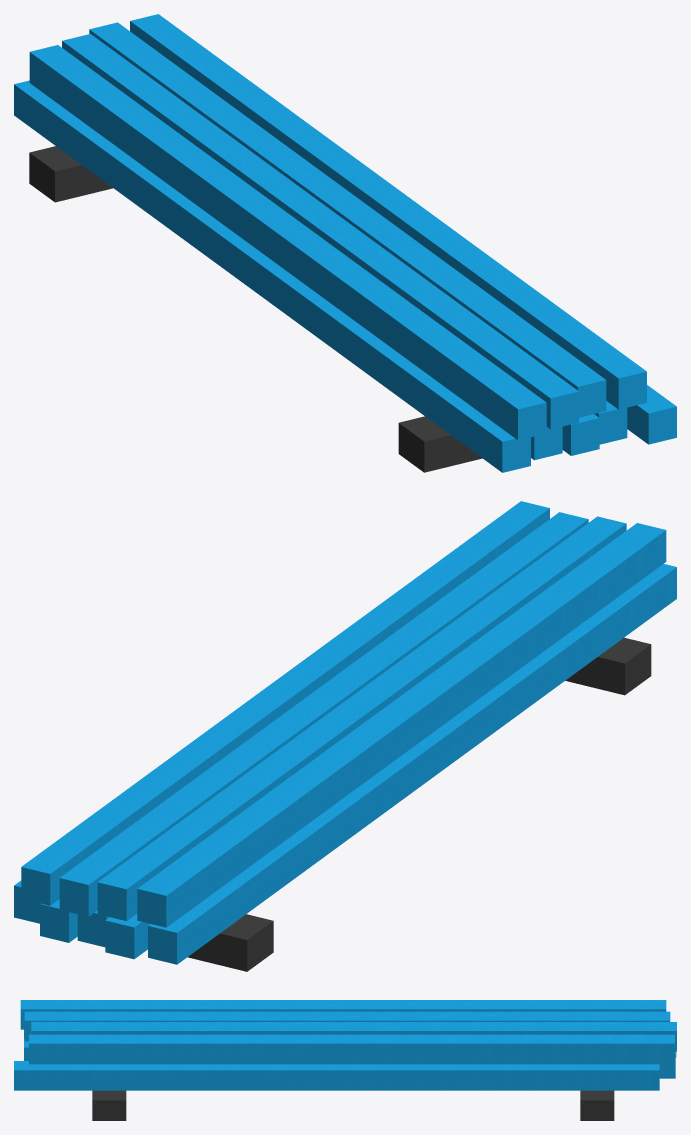
Rendered from planks-blue.glb.
3 views of the same model, one above another, from view 1: azimuth 30°, elevation 25°; view 2: azimuth 150°, elevation 25°; view 3: azimuth 270°, elevation 25° (orthographic). The views are drawn at different scales.
Visible parts, largest first — view 1: Planks Blue; view 2: Planks Blue; view 3: Planks Blue.
Boxes of the visible parts, bbox=[...] form: Planks Blue: bbox=[14, 14, 676, 472]; Planks Blue: bbox=[14, 501, 676, 971]; Planks Blue: bbox=[14, 1000, 676, 1120].
Size of the model in its own units: 1.5 by 0.6 by 5.84.
Materials: 1 (1 with a texture image).
